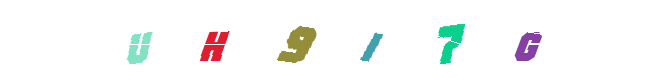7: (387, 0, 467, 80)
9: (257, 0, 337, 80)
G: (487, 0, 567, 80)
H: (174, 0, 254, 80)
I: (295, 0, 375, 80)
U: (148, 0, 228, 80)
